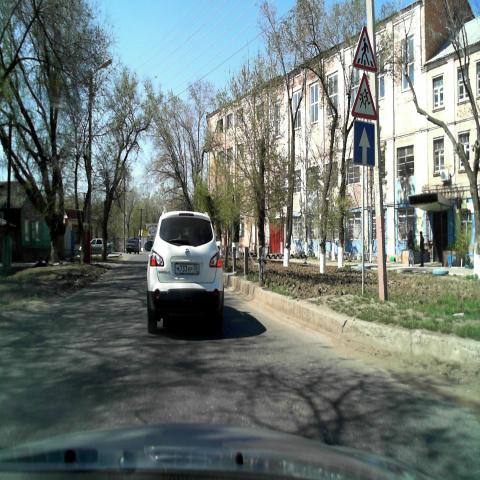1_22: (350, 25, 380, 75)
5_5: (352, 121, 376, 167)
